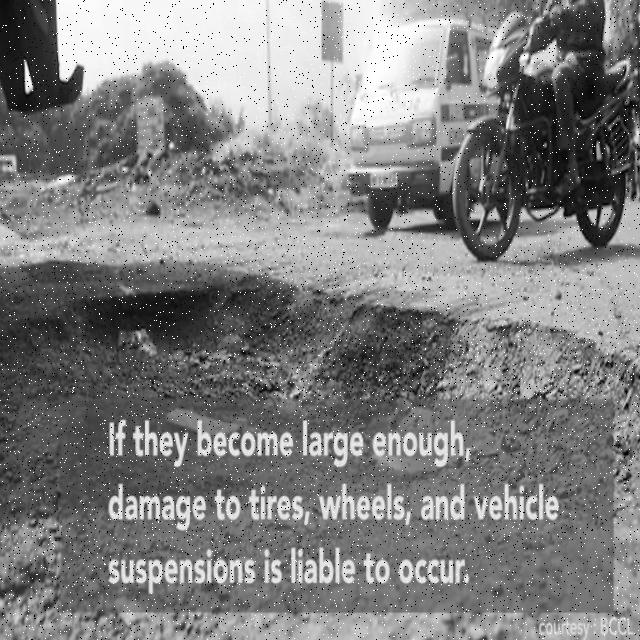pothole: (5, 286, 640, 530)
